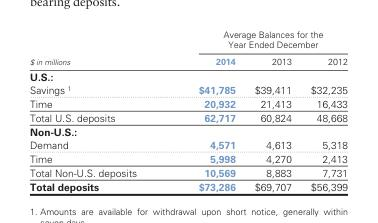table: (28, 28, 346, 192)
table column: (28, 28, 167, 192), (167, 28, 244, 192), (244, 28, 300, 192), (300, 28, 346, 192)
table column header: (28, 28, 346, 68)
table projected row header: (28, 68, 346, 82), (28, 124, 346, 137)
table row: (28, 28, 346, 52), (28, 52, 346, 68), (28, 150, 346, 165), (28, 68, 346, 82), (28, 82, 346, 96), (28, 96, 346, 110), (28, 110, 346, 124), (28, 165, 346, 179), (28, 124, 346, 137), (28, 137, 346, 150), (28, 179, 346, 192)
table spanning cell: (28, 28, 167, 68), (167, 28, 346, 52)
